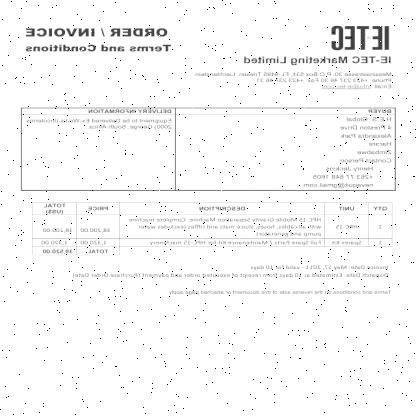Paragraph: (70, 264, 392, 297), (193, 54, 394, 92), (303, 108, 395, 189), (23, 26, 175, 54), (25, 108, 175, 130)
Table: (32, 202, 392, 256)
